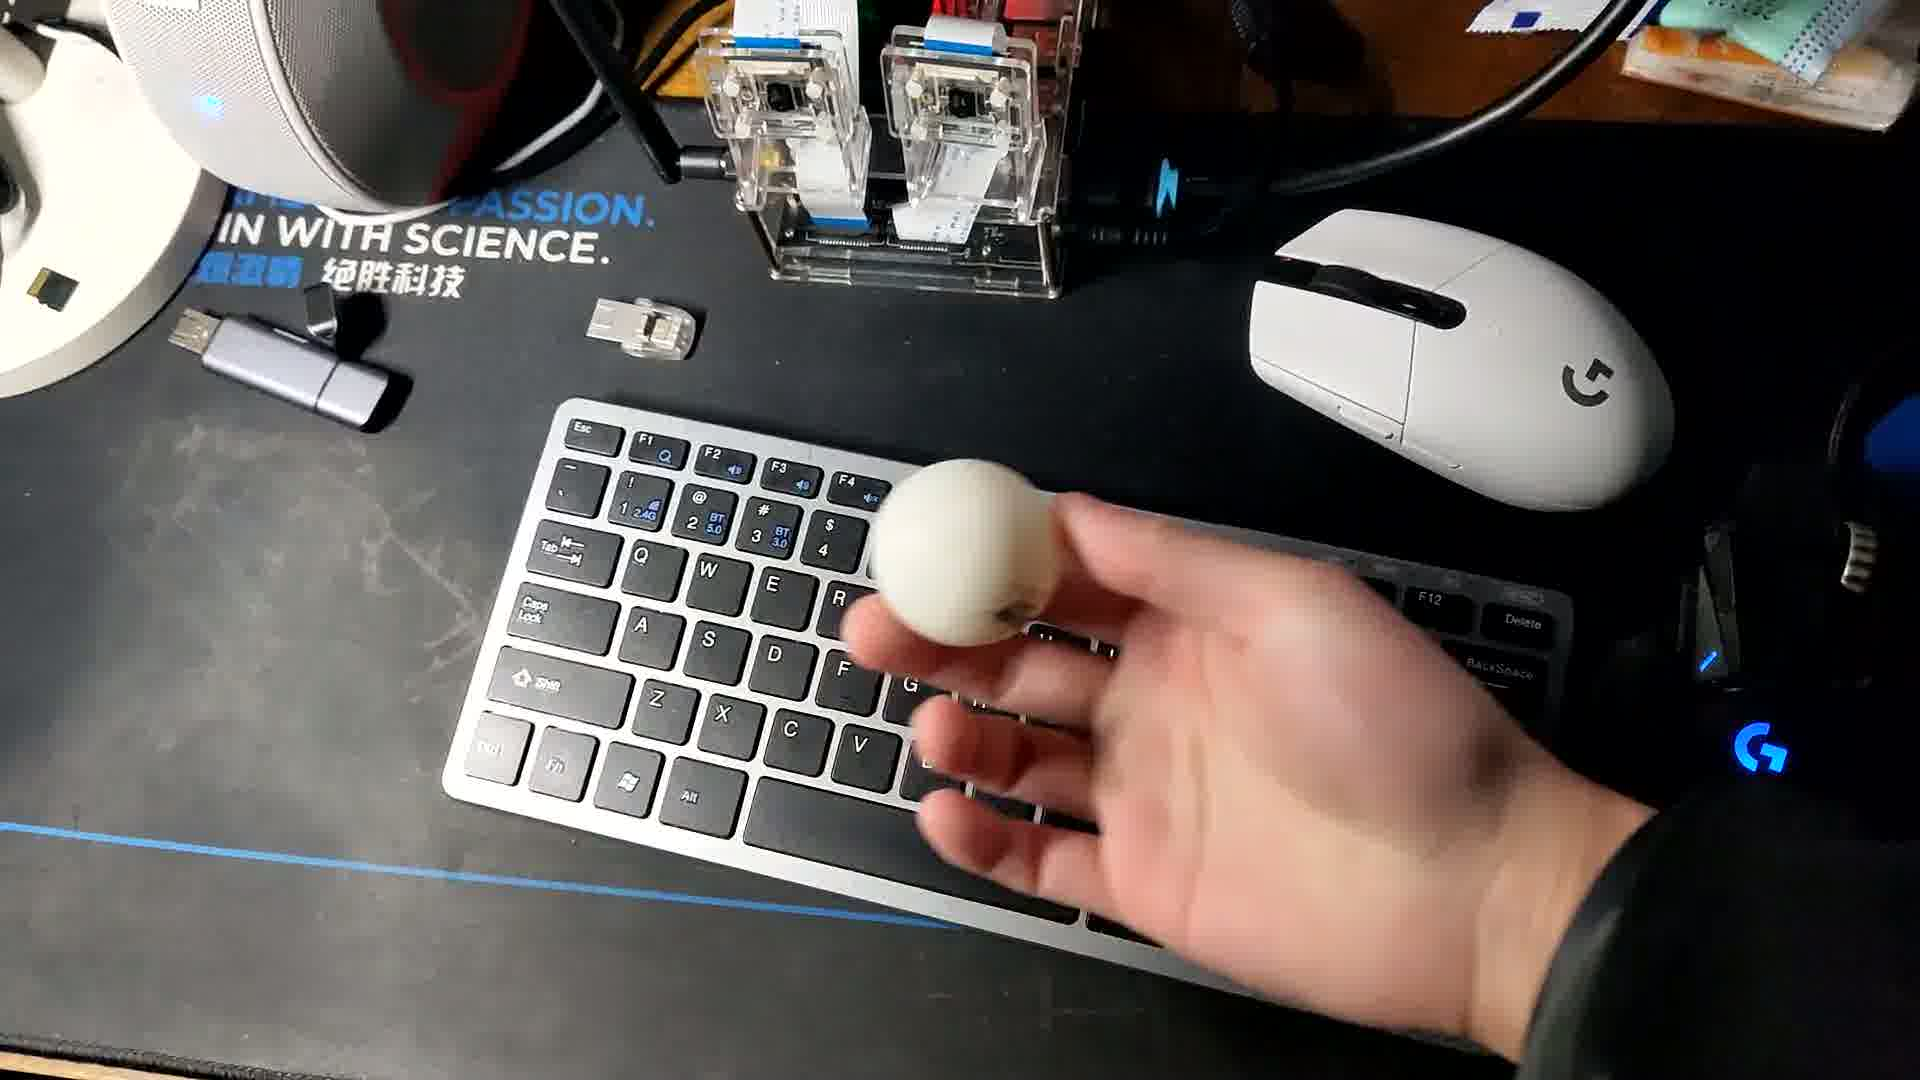Ball: (866, 459, 1064, 653)
